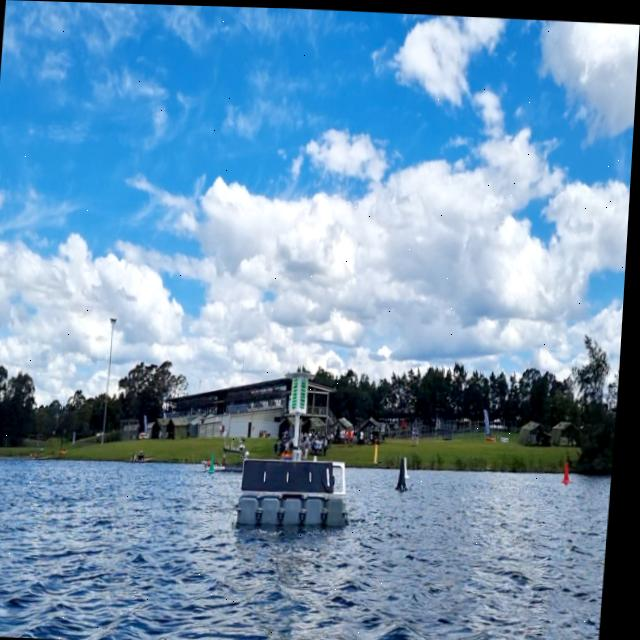led: (295, 376, 313, 410), (303, 375, 312, 409), (295, 376, 304, 409)
